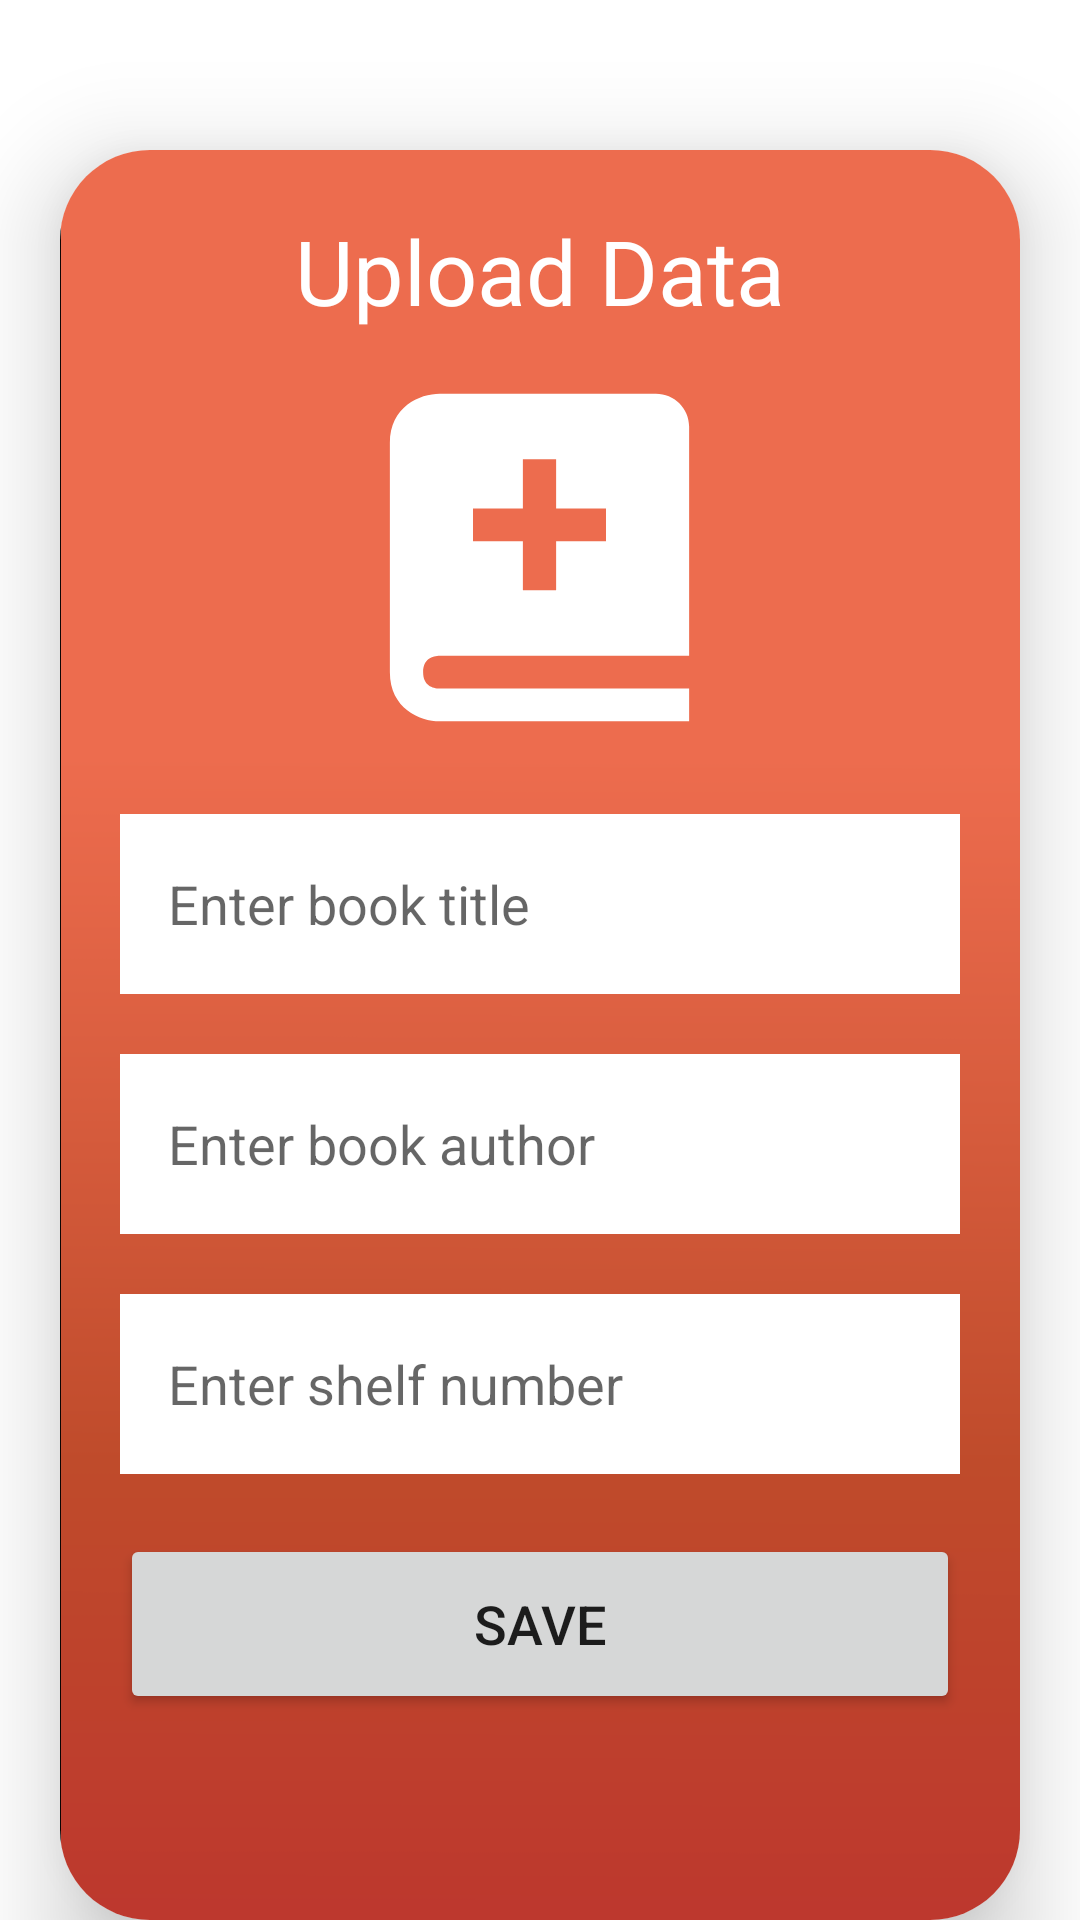

Icons on this 1080w x 1920h Android screen, each with the point to tap as point (x, y):
upload book: point (539, 557)
